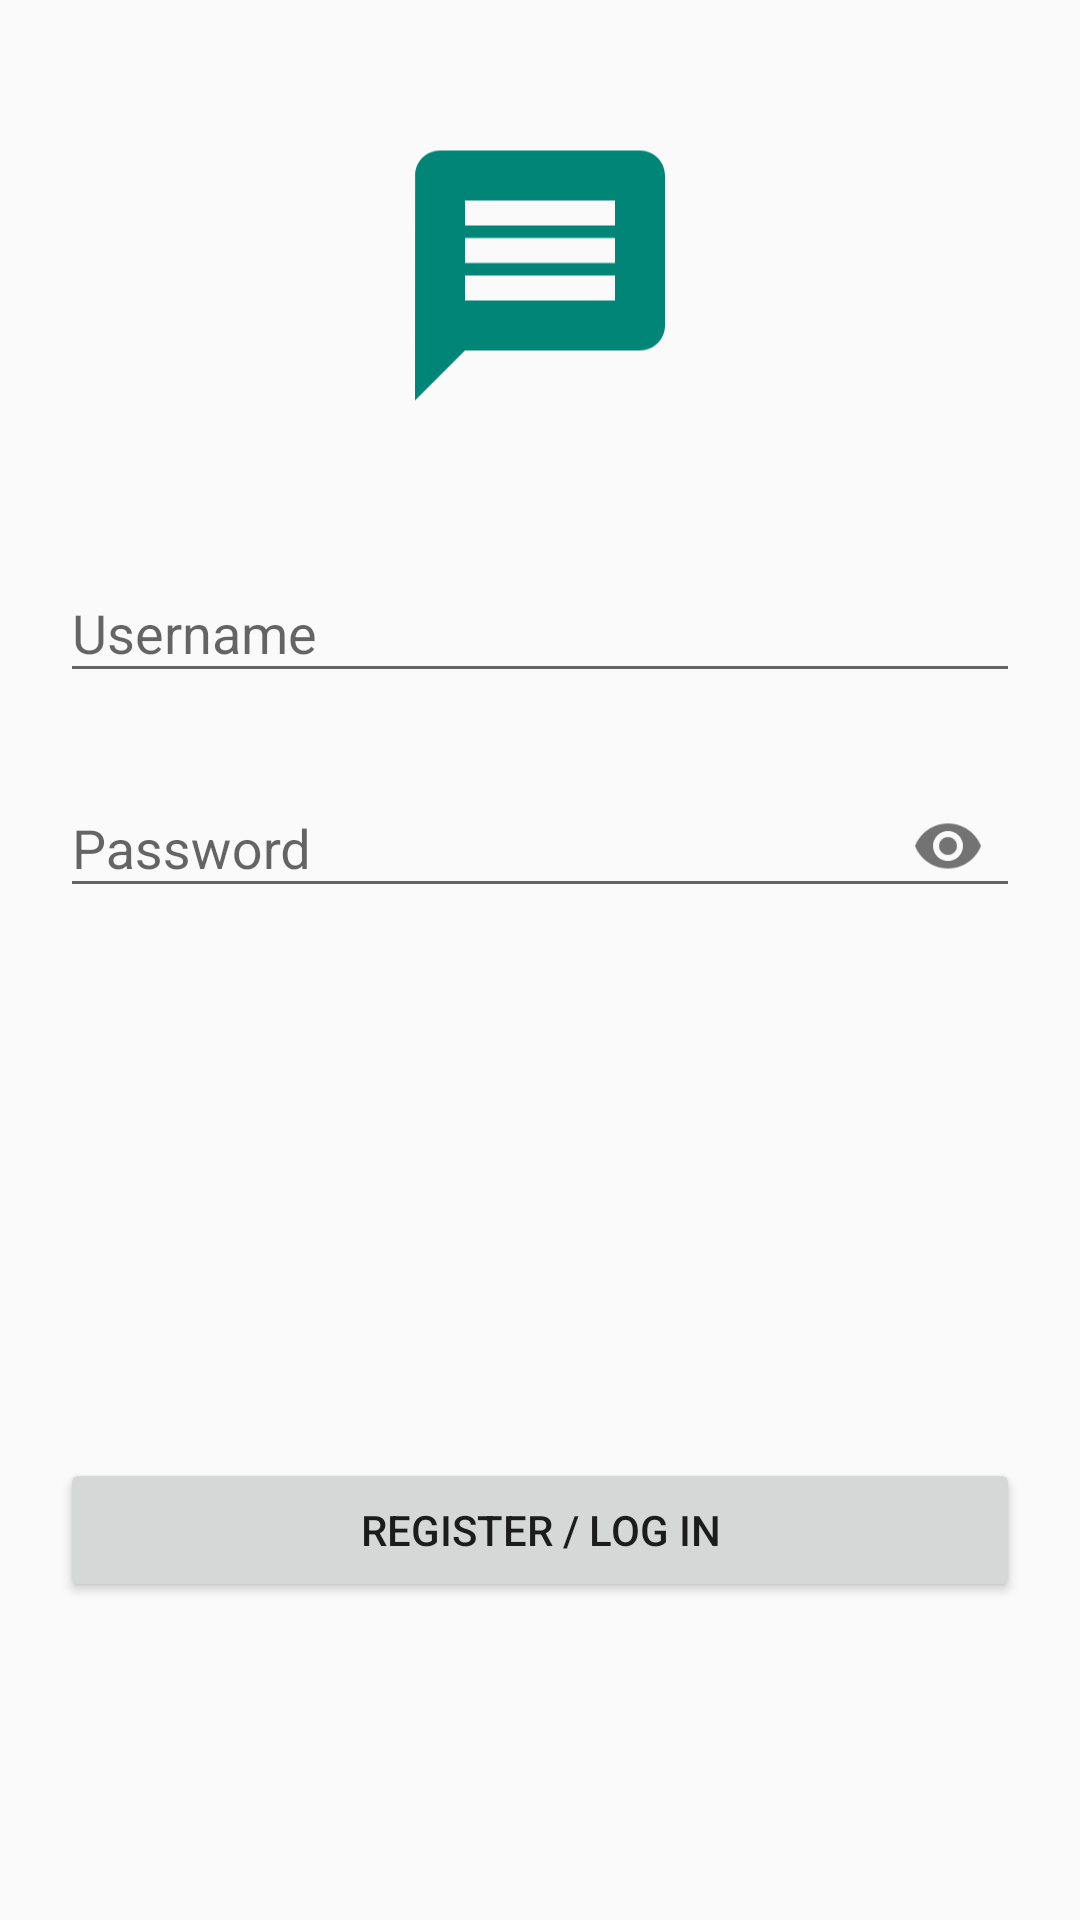

Named icons in this screenshot (1080 x 1920) and their centers, (x=x, y=y):
message: (x=540, y=275)
